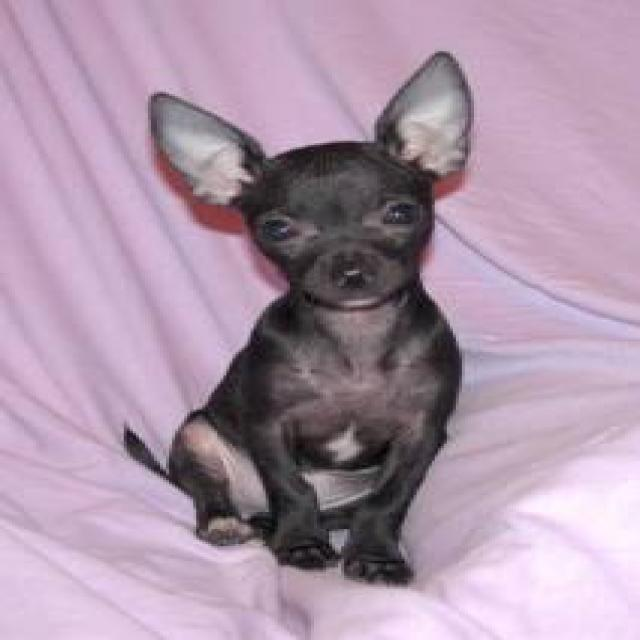dog-chihuahua: (121, 32, 486, 595)
